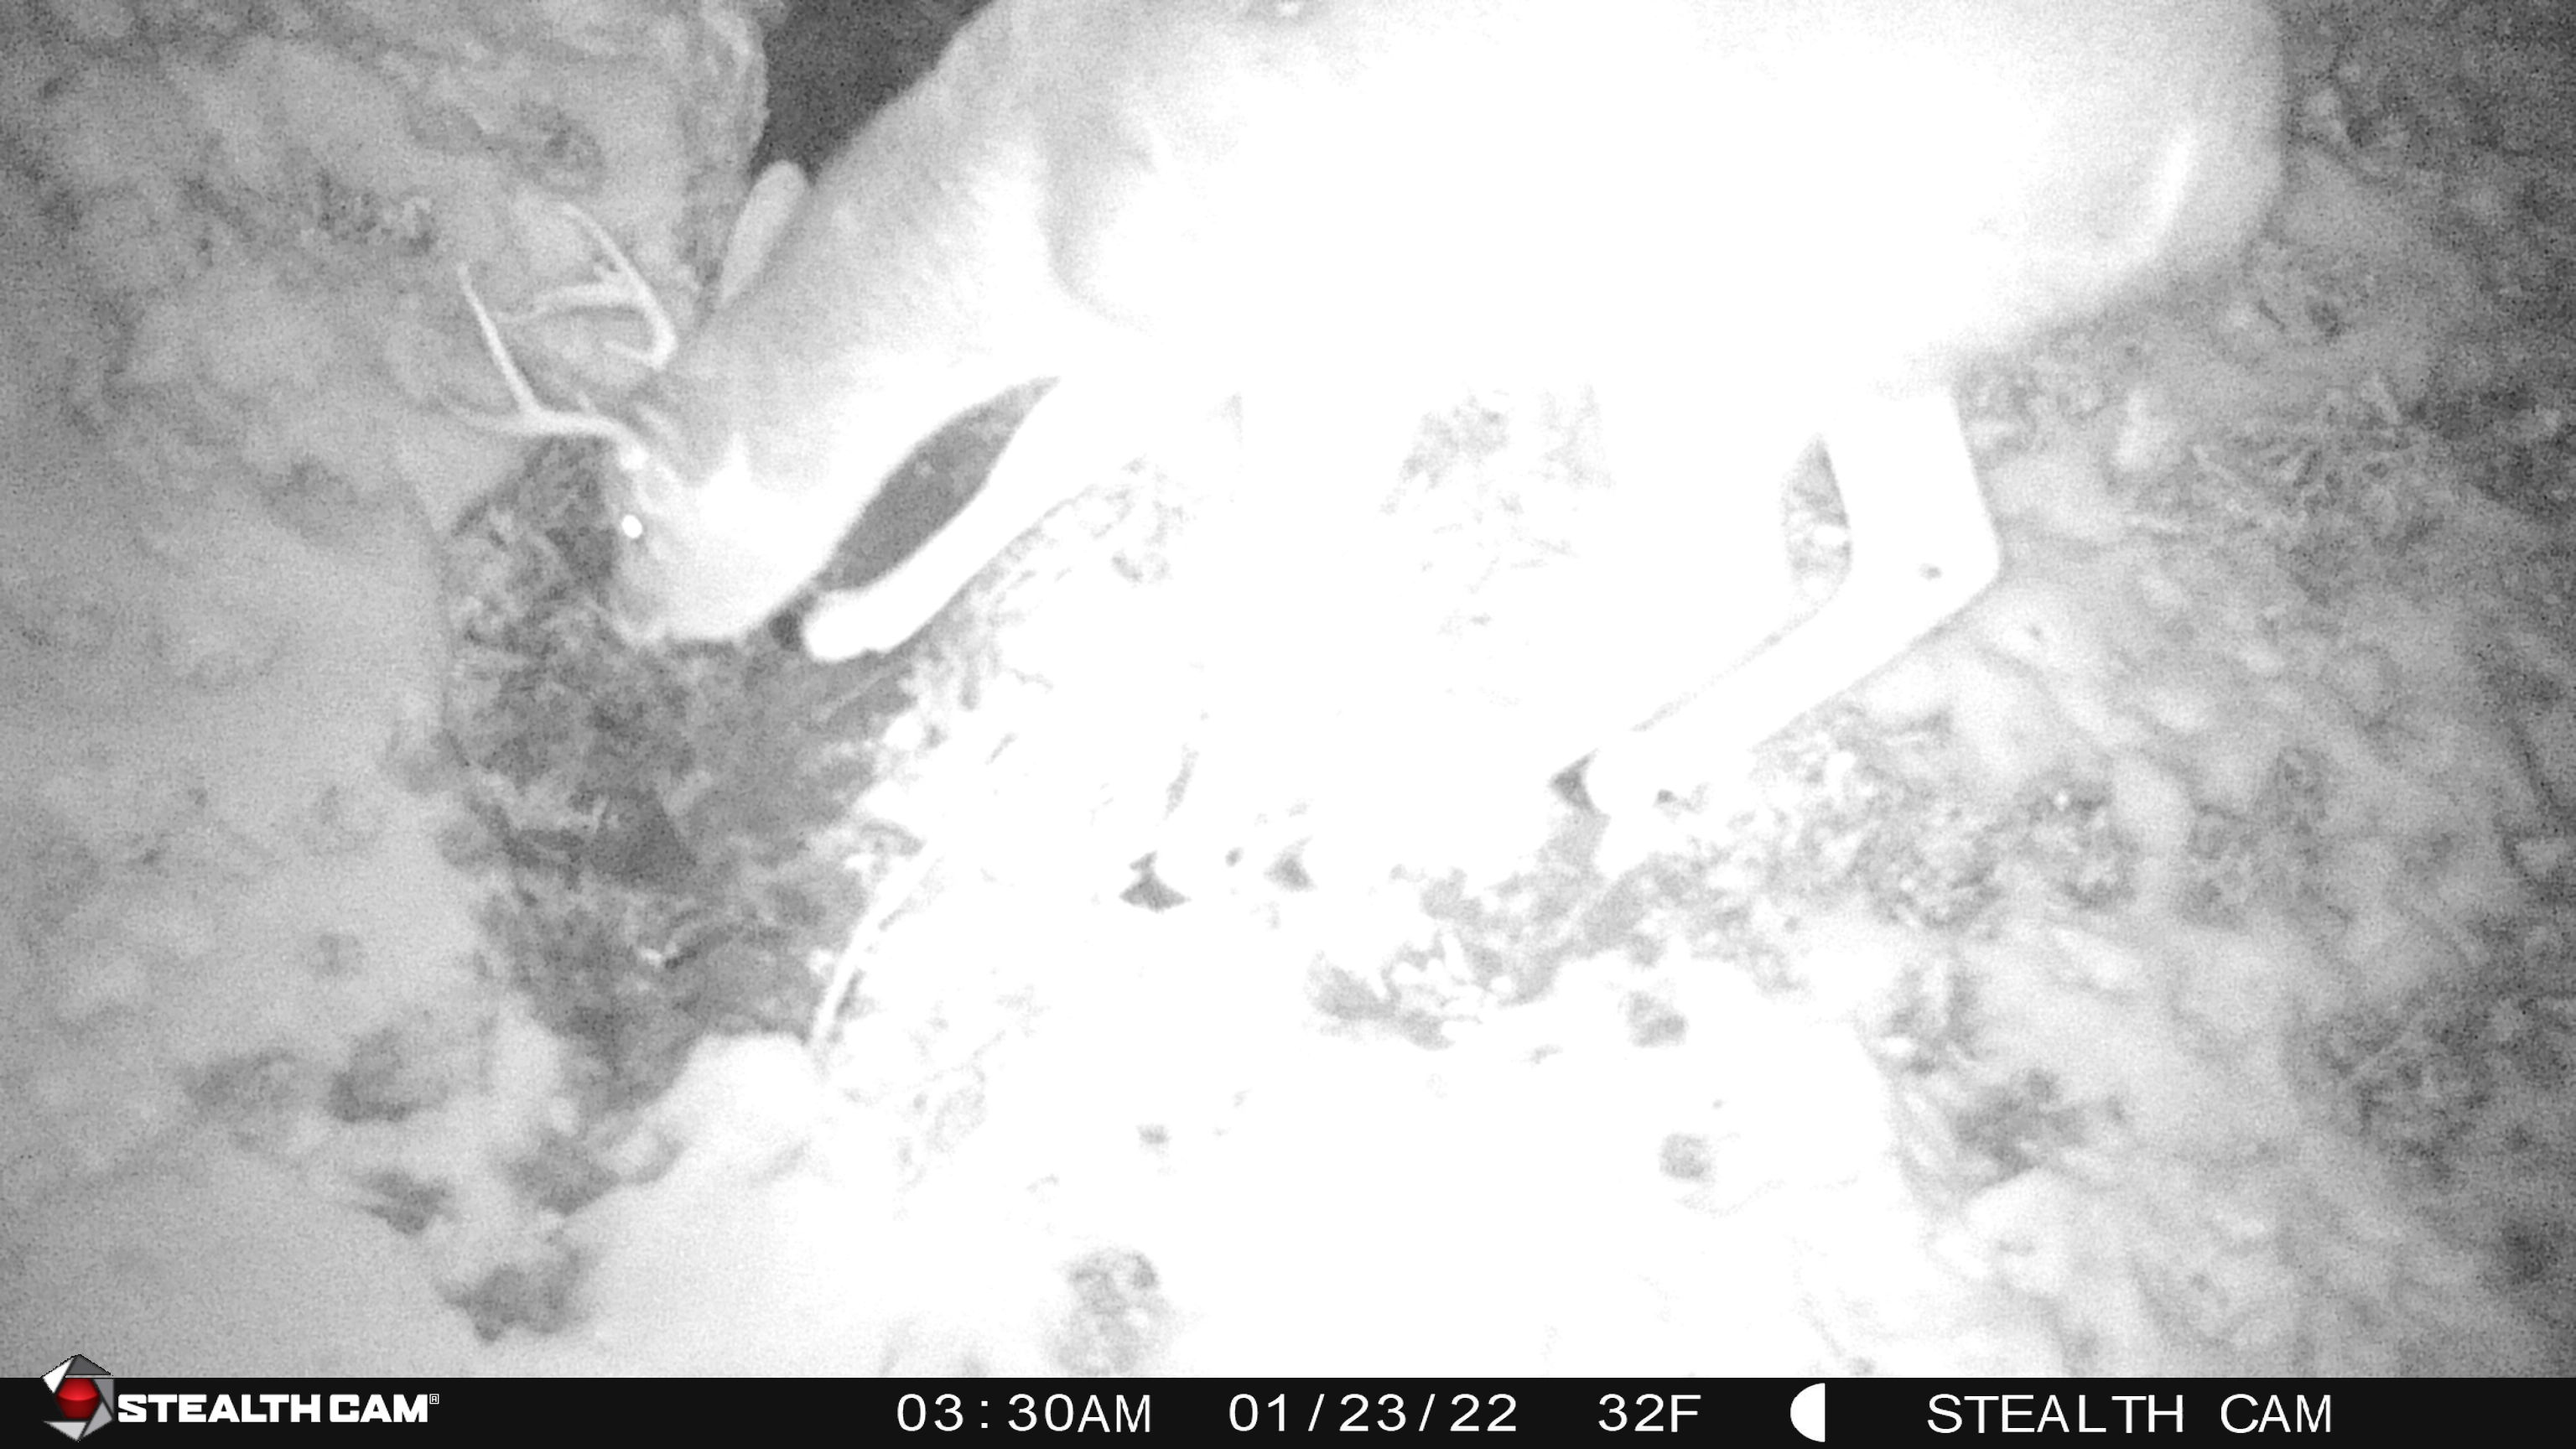DeerBuck: (427, 1, 2285, 914)
DeerBuckHead: (426, 158, 820, 658)
